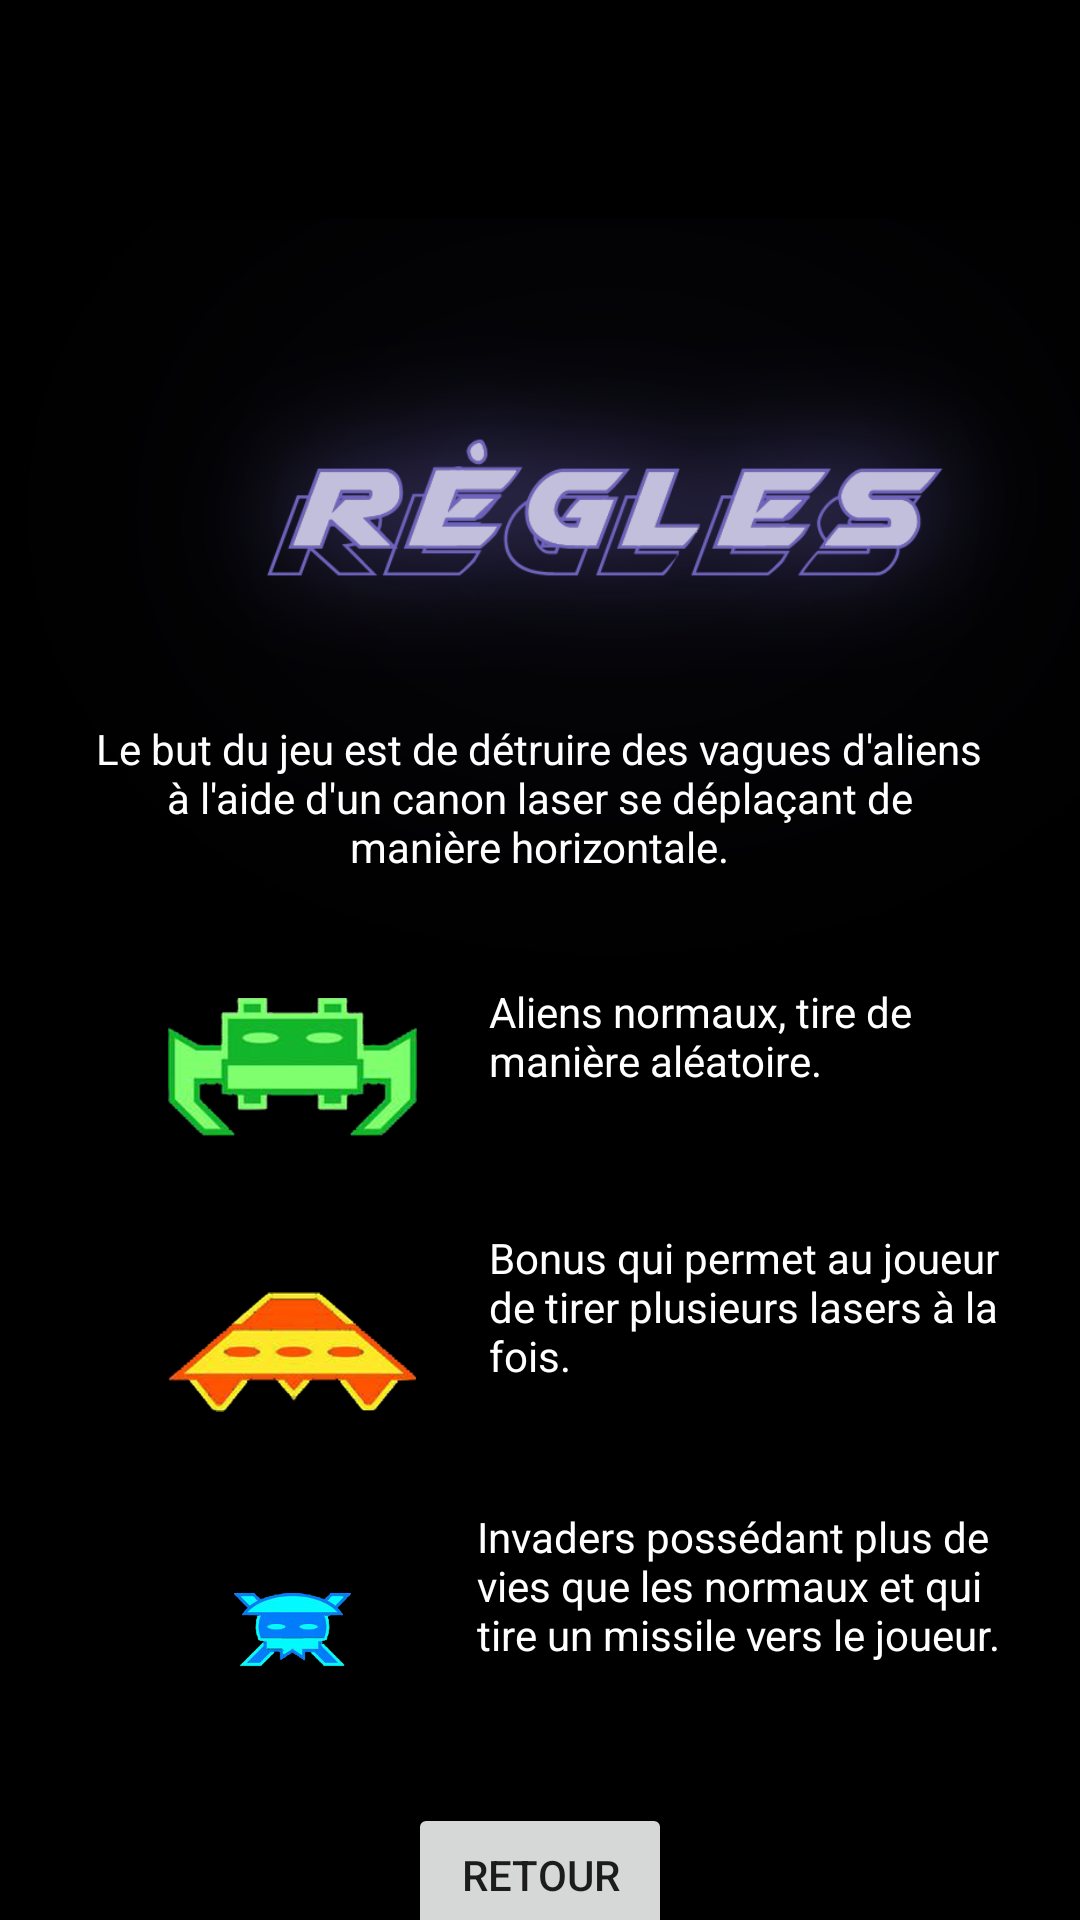

Where icons sit on this 1080px×1920px app screen, as (x1, y1, x2, y2):
invader: (168, 998, 417, 1136)
invader miniboss: (234, 1593, 351, 1666)
invader soucoupe: (169, 1292, 416, 1412)
